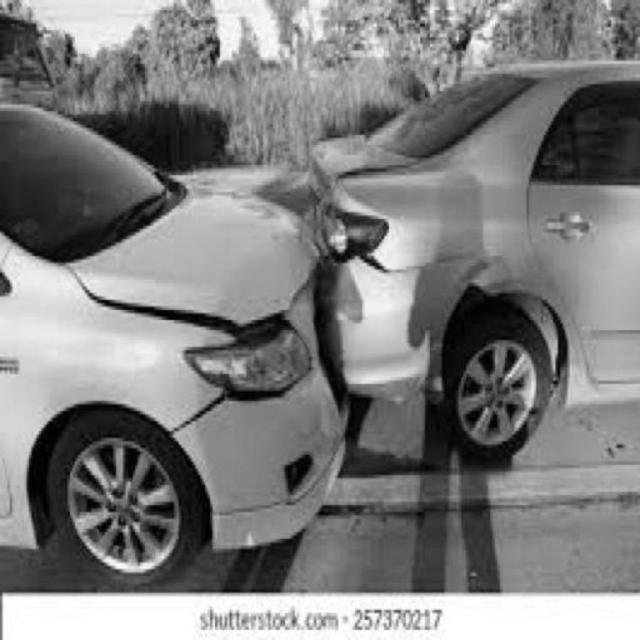accident: (12, 74, 628, 544)
